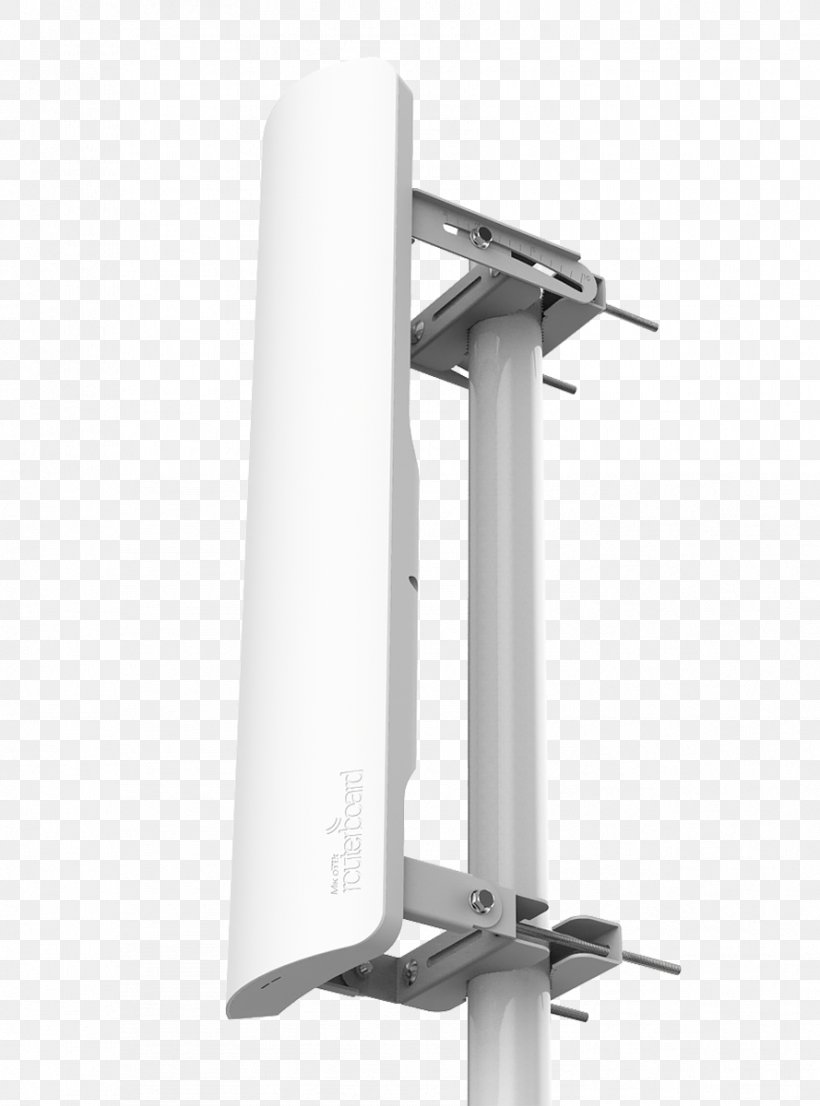sa: (221, 43, 532, 1036)
